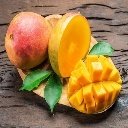mango: (66, 54, 122, 113), (46, 11, 91, 78), (6, 11, 51, 71)
